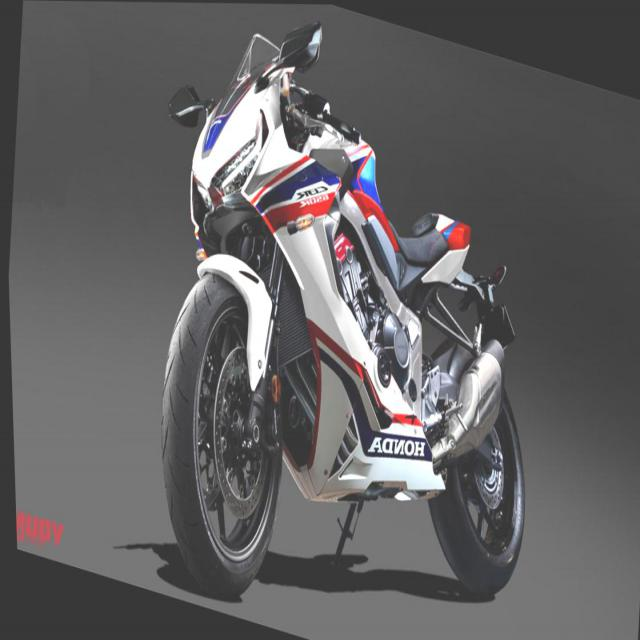CBR650R: (125, 1, 560, 639)
